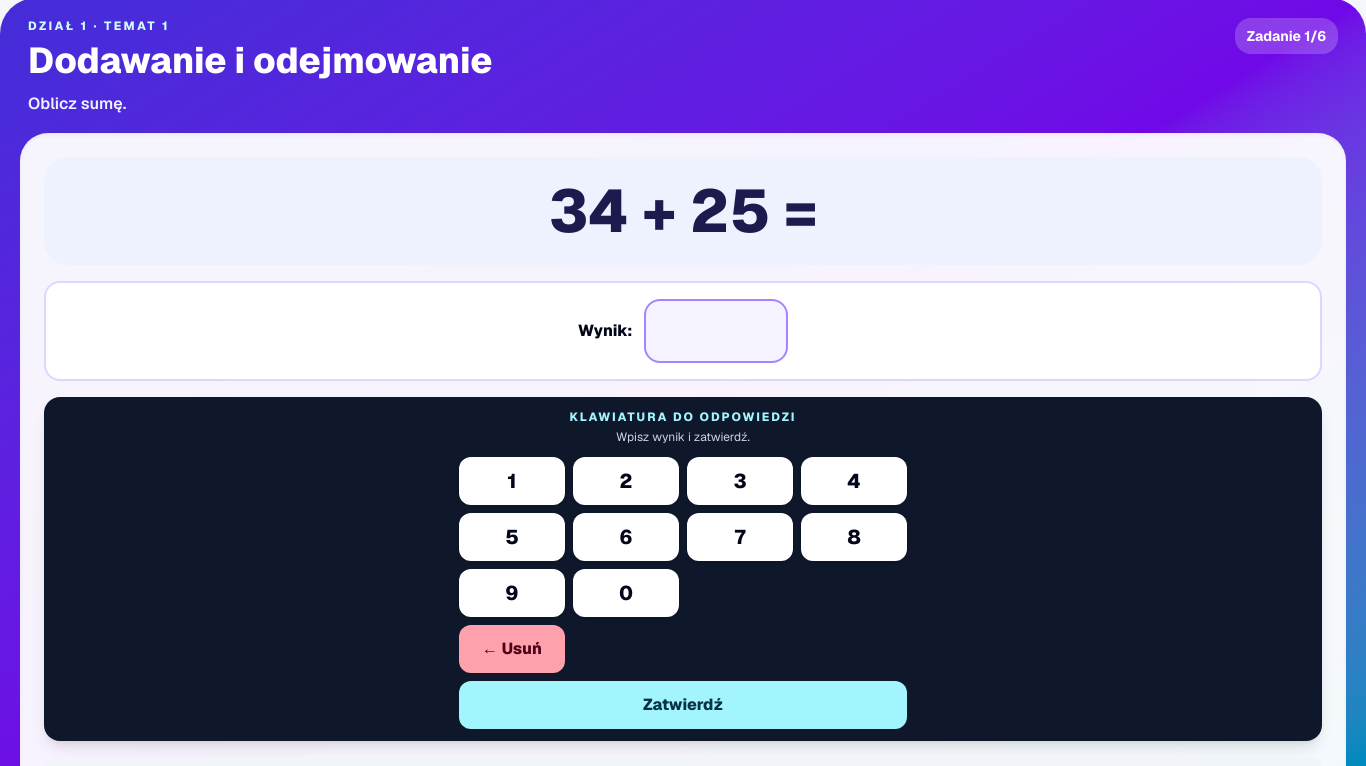
Test: Grade4AddSubLessonLab › nie zalicza pustego pola
Click the button "Zatwierdź". click: (683, 705)
box: top-left (459, 681), bottom-right (907, 729)
(page scrolled)
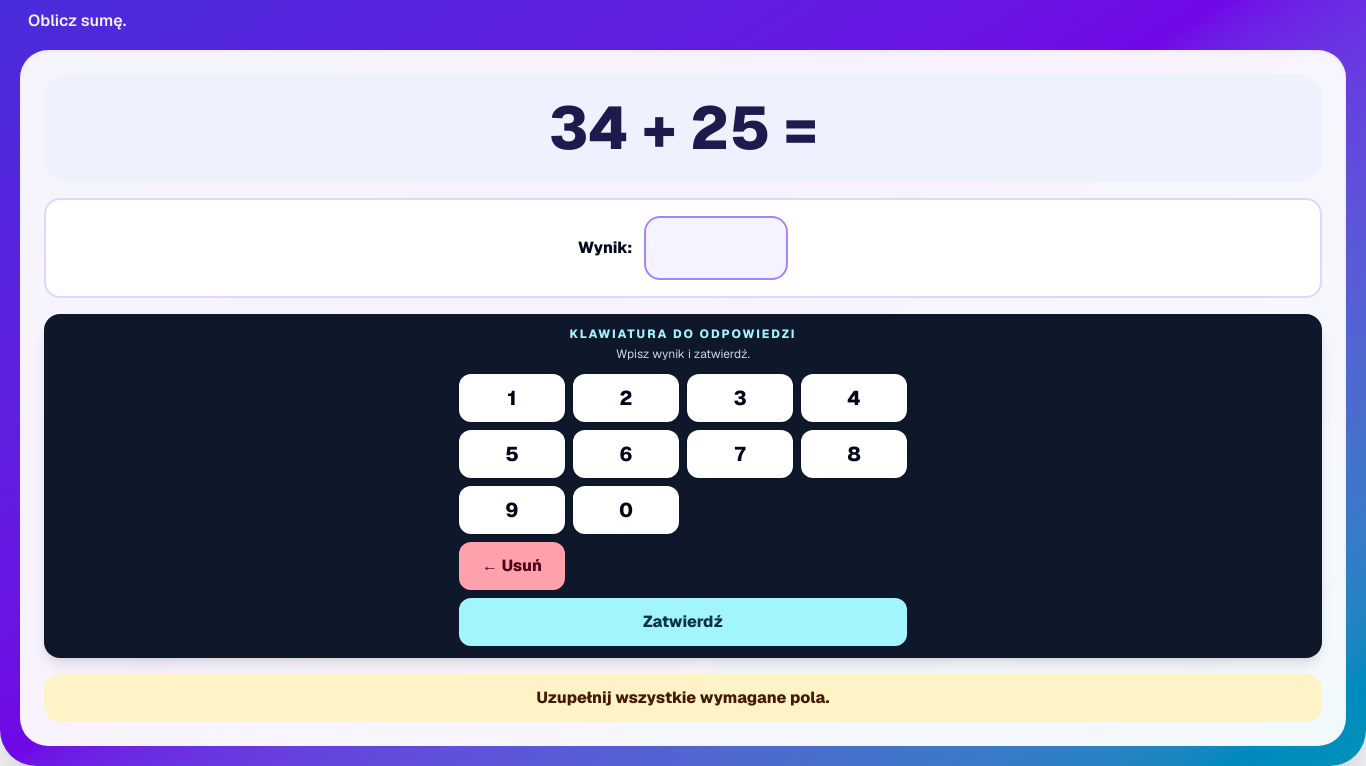
Now the message shows "Uzupełnij", box top-left (536, 687), bottom-right (829, 708)
